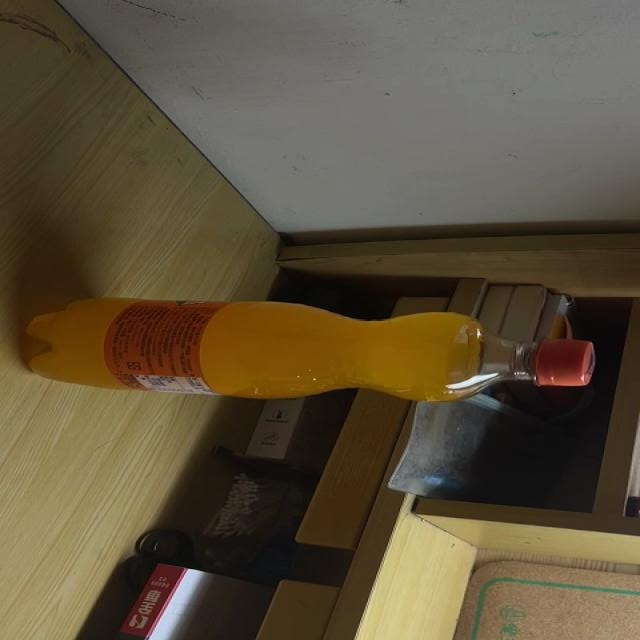Fanta: (24, 297, 592, 402)
